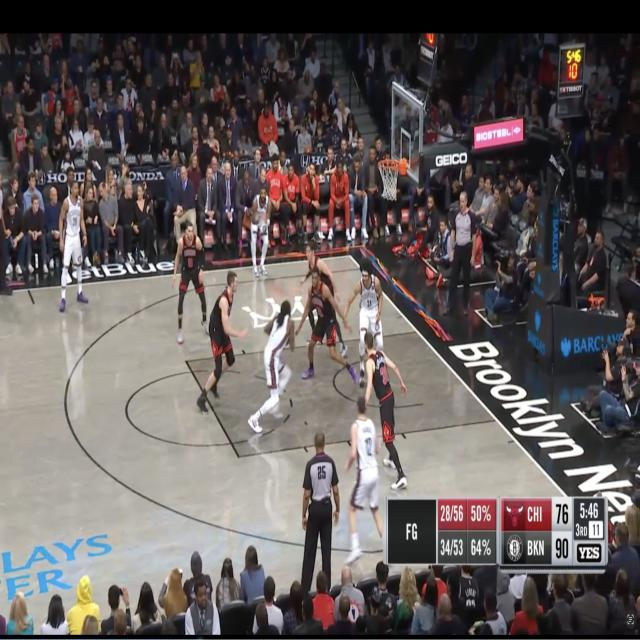no foul: (197, 274, 292, 444), (294, 233, 352, 383)
